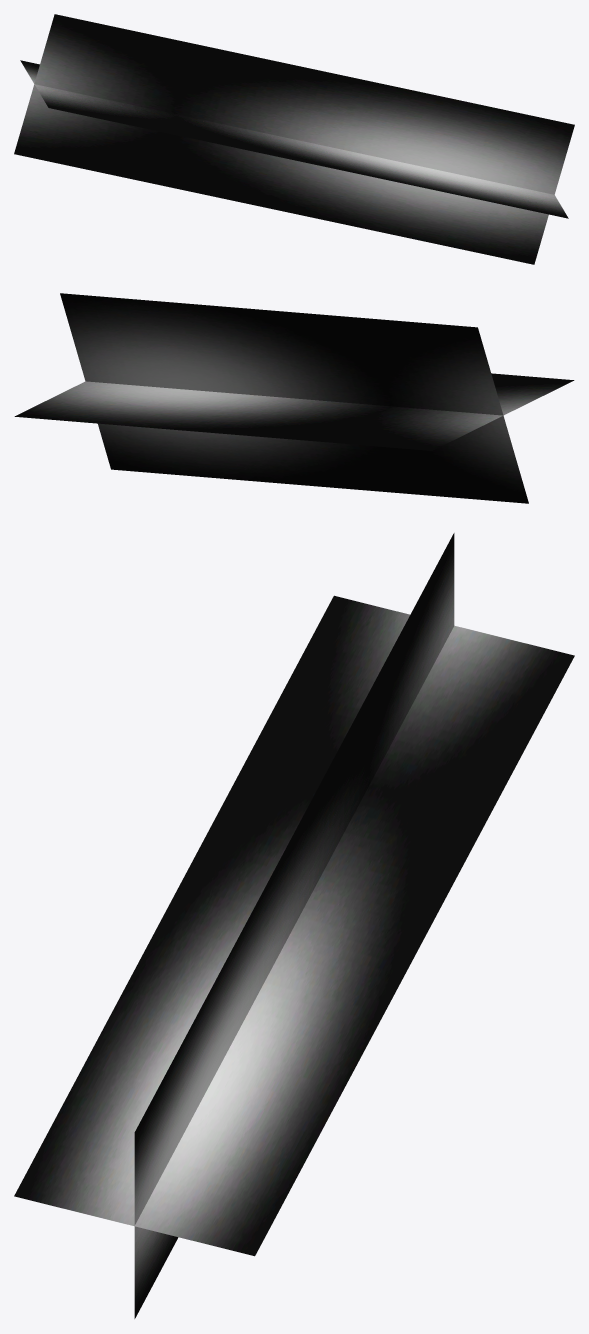
The model's file is vfx_kurp_1142.dae.
3 views of the same model, one above another, from view 1: azimuth 30°, elevation 25°; view 2: azimuth 150°, elevation 25°; view 3: azimuth 270°, elevation 25° (orthographic). The views are drawn at different scales.
Parts seen in each view (by area): view 1: vfx_kurp_1142; view 2: vfx_kurp_1142; view 3: vfx_kurp_1142.
Boxes of the visible parts, x1,y1,x2,y2 form: vfx_kurp_1142: (14,14,574,264); vfx_kurp_1142: (14,293,574,503); vfx_kurp_1142: (14,533,574,1318).
Bounding box in the file's own units: 10.36 × 6.32 × 5.83.
Materials: 1 (1 with a texture image).
